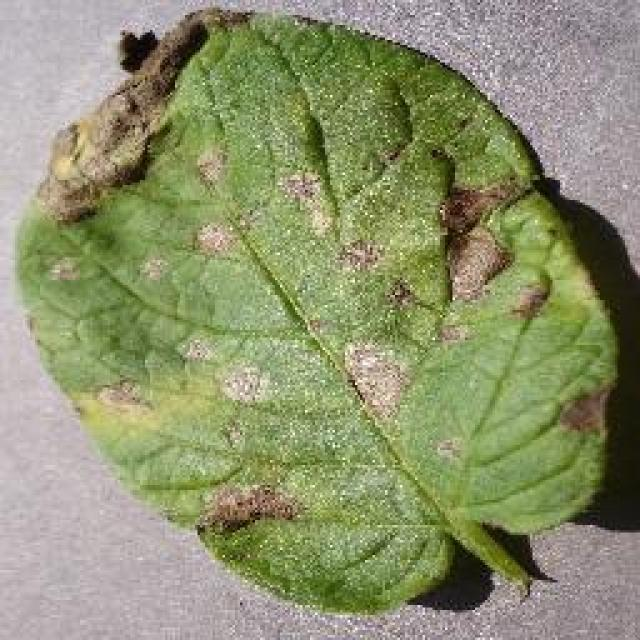early_blight: (10, 2, 622, 620)
